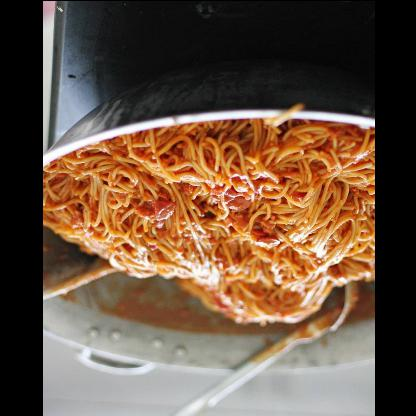spaghetti: (43, 118, 375, 322)
